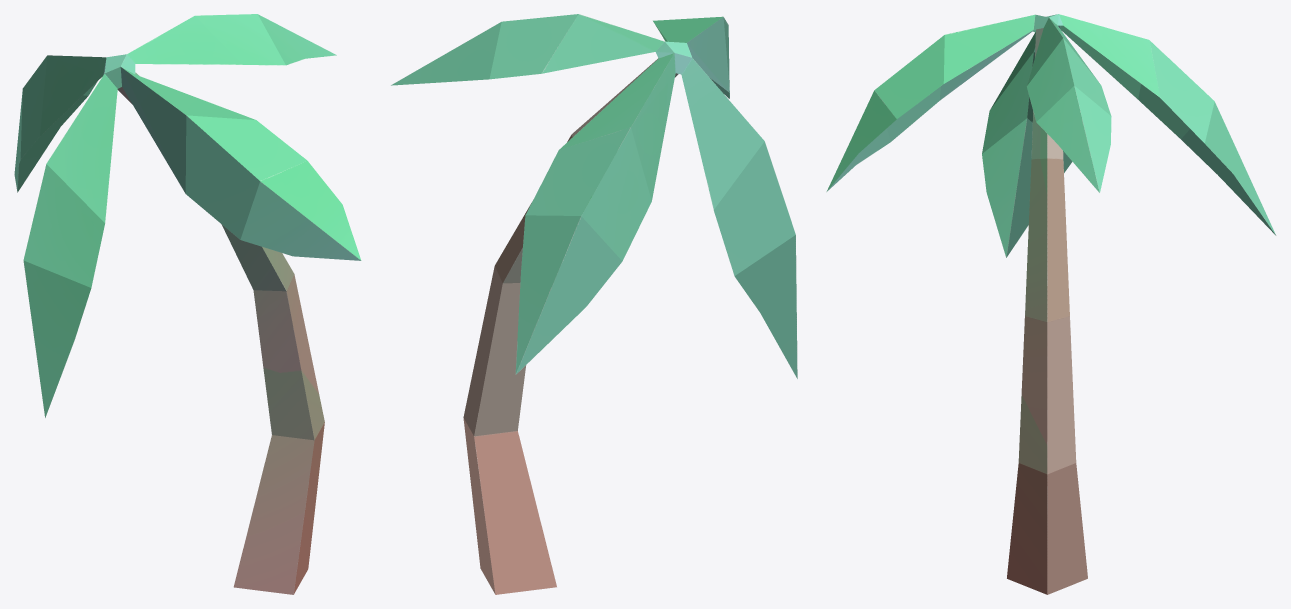
File: palmeira.fbx
3 views of the same model, side by side, from view 1: azimuth 30°, elevation 25°; view 2: azimuth 150°, elevation 25°; view 3: azimuth 270°, elevation 25° (orthographic). The views are drawn at different scales.
Visible parts, largest first — view 1: palmeira; view 2: palmeira; view 3: palmeira.
Boxes of the visible parts, <box> form: palmeira: <box>14,14,361,594</box>; palmeira: <box>391,14,797,594</box>; palmeira: <box>826,14,1276,594</box>.
Bounding box in the file's own units: 494 × 762 × 608.
Materials: 1 (1 with a texture image).
